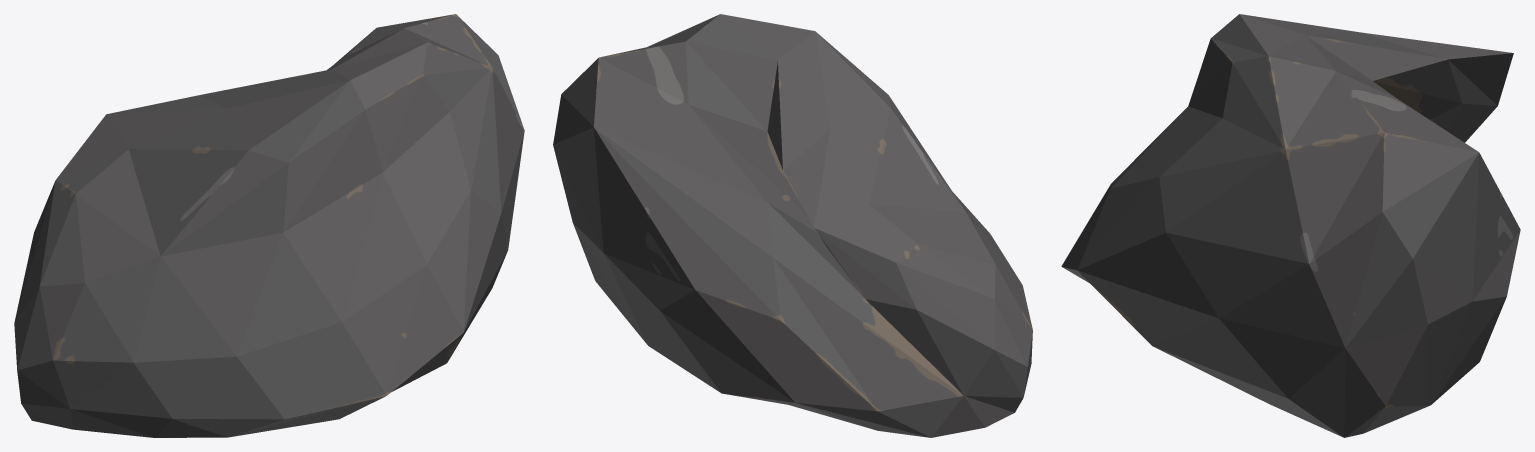
The model's file is PT_stones_004.FBX.
3 views of the same model, side by side, from view 1: azimuth 30°, elevation 25°; view 2: azimuth 150°, elevation 25°; view 3: azimuth 270°, elevation 25° (orthographic). The views are drawn at different scales.
Parts seen in each view (by area): view 1: Box141; view 2: Box141; view 3: Box141.
Part boxes in pixels (x1=…): Box141: x1=14, y1=14, x2=524, y2=437; Box141: x1=553, y1=14, x2=1032, y2=437; Box141: x1=1061, y1=14, x2=1520, y2=437.
Size of the model in its own units: 11.09 by 7.45 by 7.98.
1 material, 1 textured.
